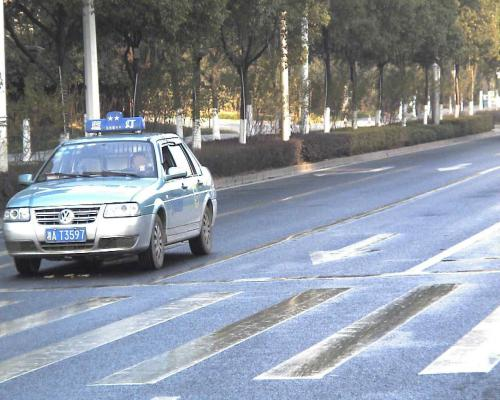Carplate: (41, 227, 88, 243)
